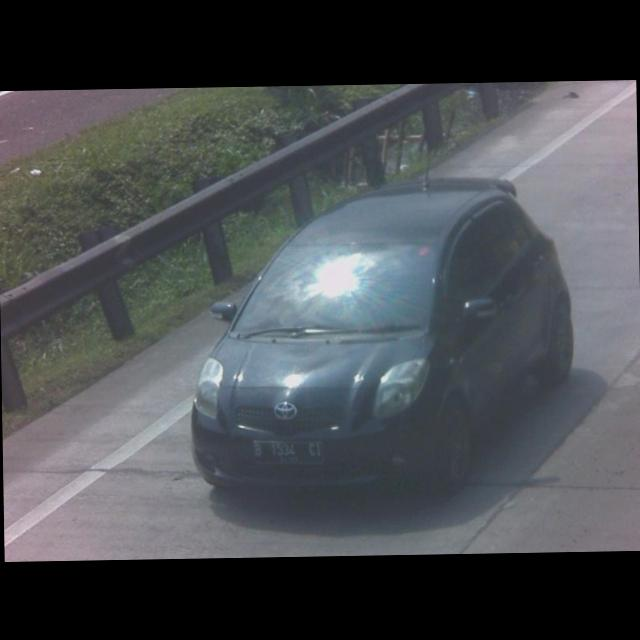plate: (250, 436, 322, 465)
